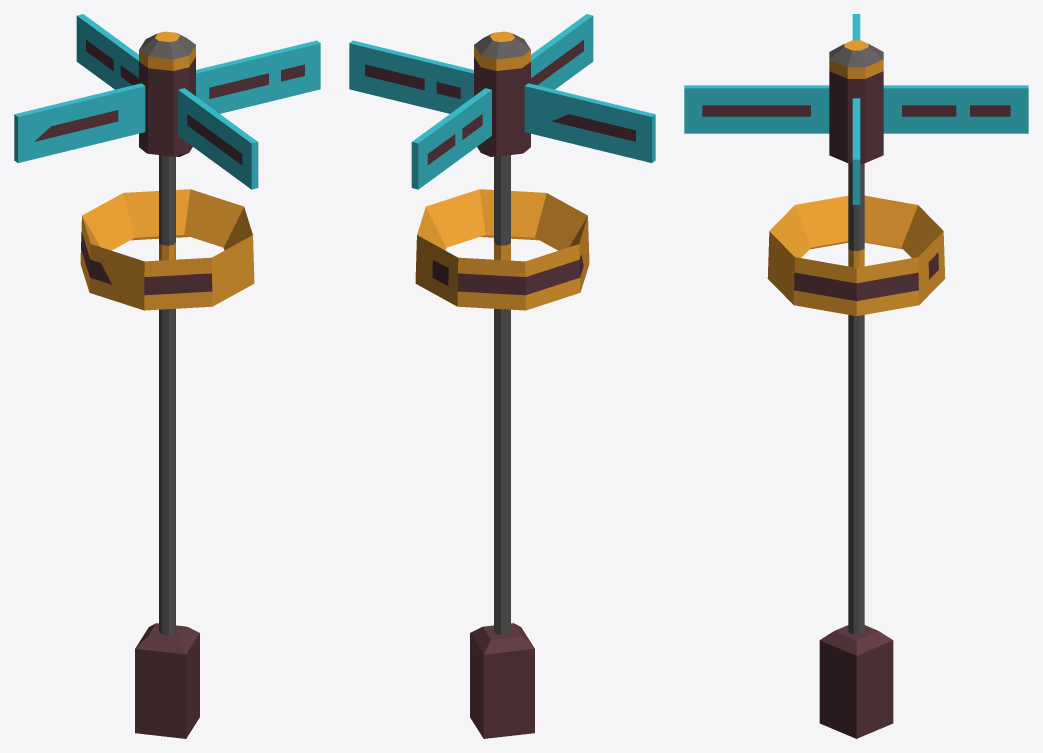
The model's file is scifi-lamp-city-signpost.fbx.
3 views of the same model, side by side, from view 1: azimuth 30°, elevation 25°; view 2: azimuth 150°, elevation 25°; view 3: azimuth 270°, elevation 25° (orthographic).
Visible parts, largest first — view 1: scifi-lamp-city-signpost; view 2: scifi-lamp-city-signpost; view 3: scifi-lamp-city-signpost.
Part boxes in pixels (bbox=[...]): scifi-lamp-city-signpost: bbox=[14, 14, 320, 738]; scifi-lamp-city-signpost: bbox=[349, 14, 655, 738]; scifi-lamp-city-signpost: bbox=[684, 14, 1028, 738].
Size of the model in its own units: 3.7 by 8.04 by 3.7.
